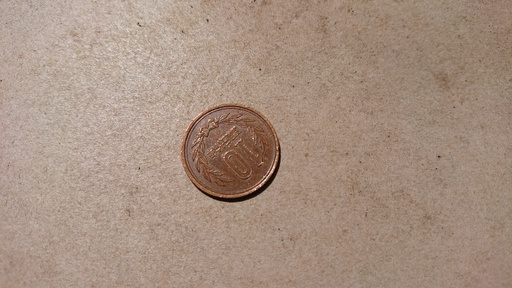10yen: (183, 105, 279, 199)
